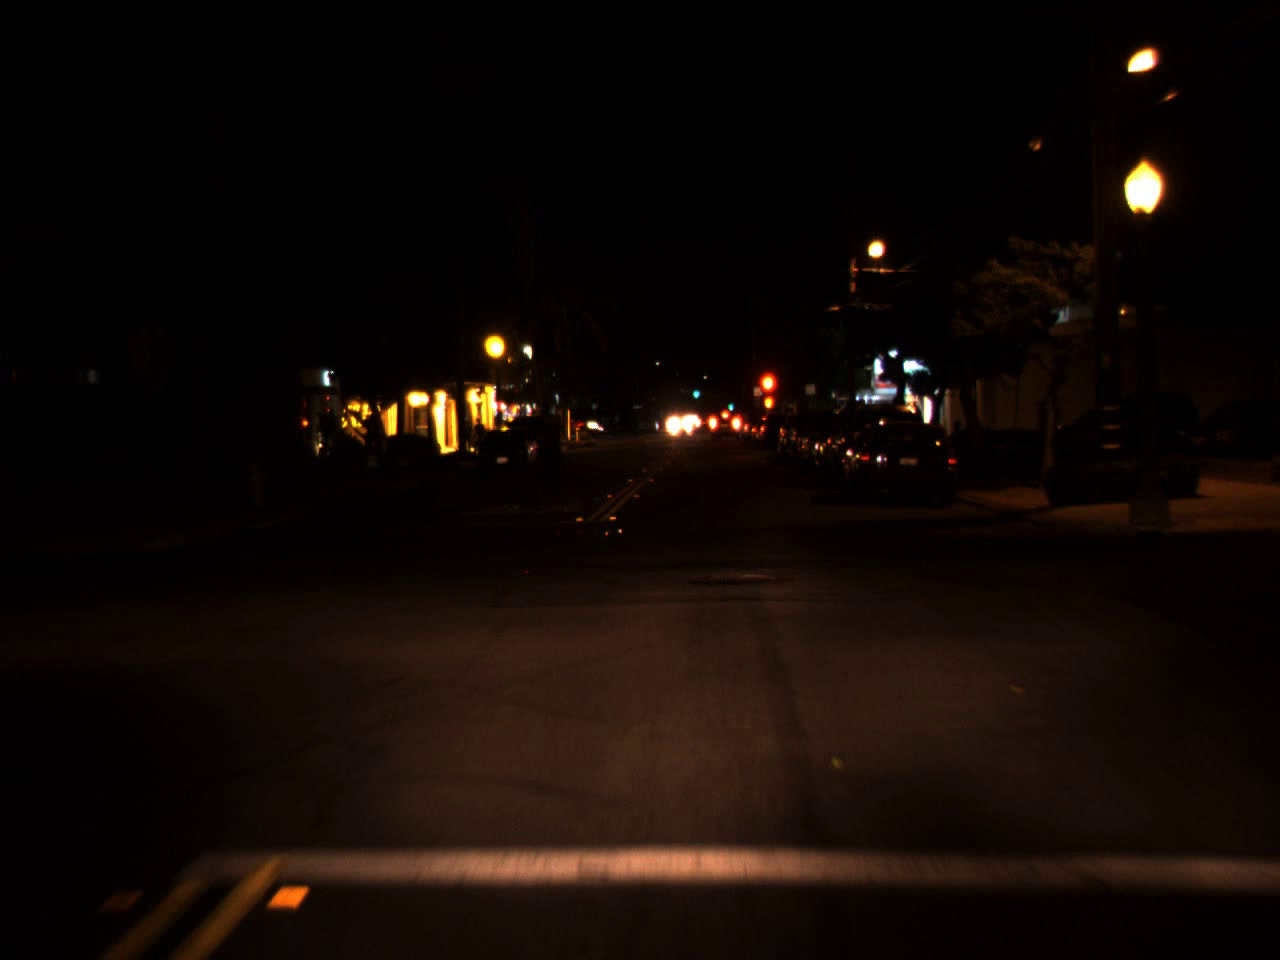go: (691, 383, 700, 401)
stop: (756, 369, 780, 417)
